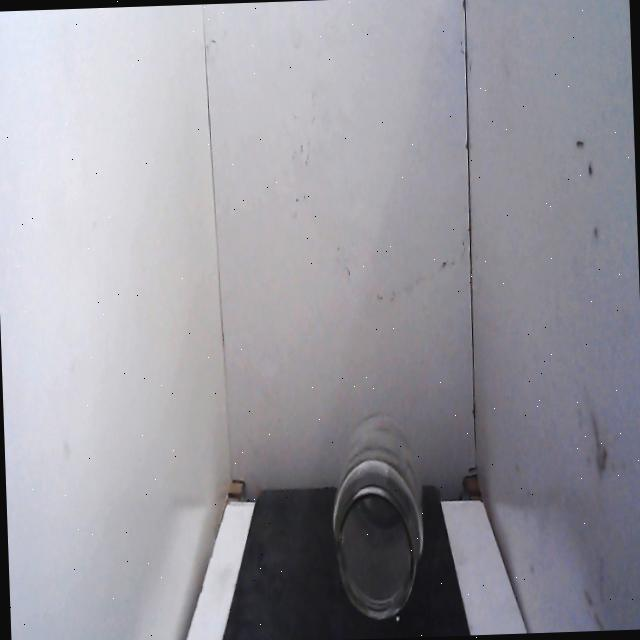glass: (322, 403, 438, 637)
